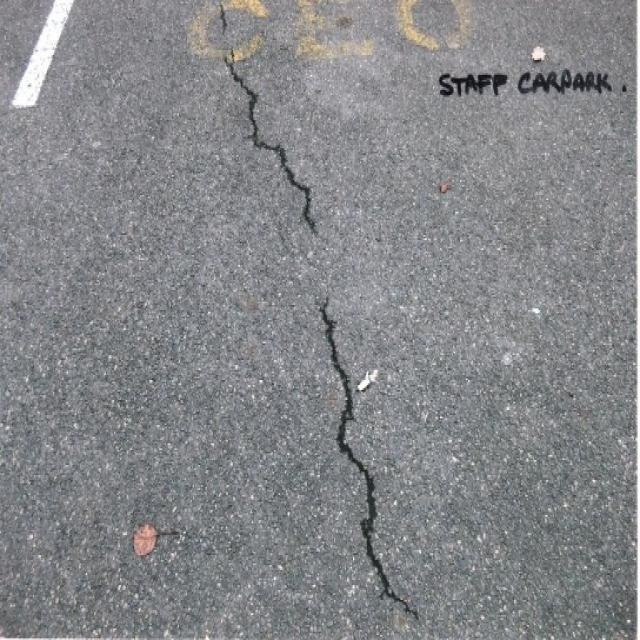crack: (313, 298, 423, 624), (224, 48, 318, 238), (218, 0, 227, 38)
